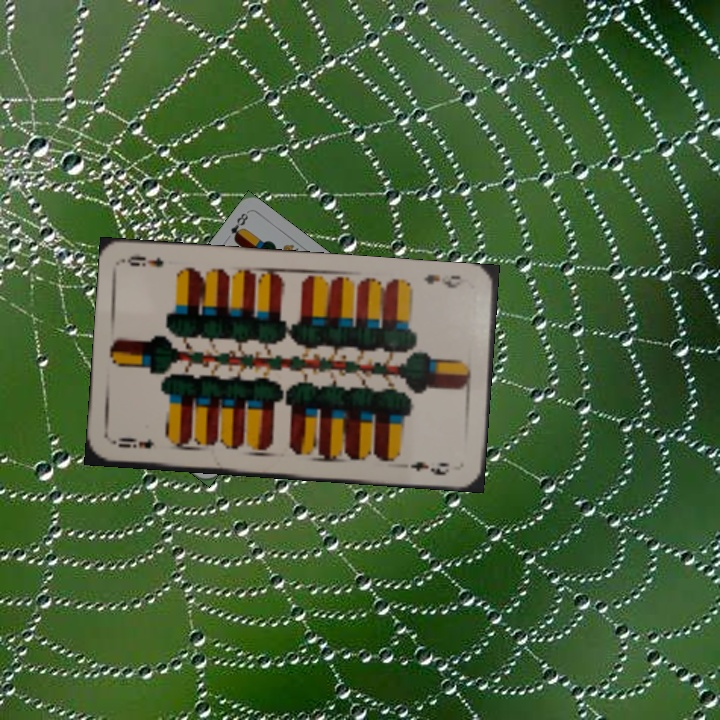E8: (227, 208, 251, 244)
E9: (421, 270, 472, 291), (110, 433, 157, 452)
